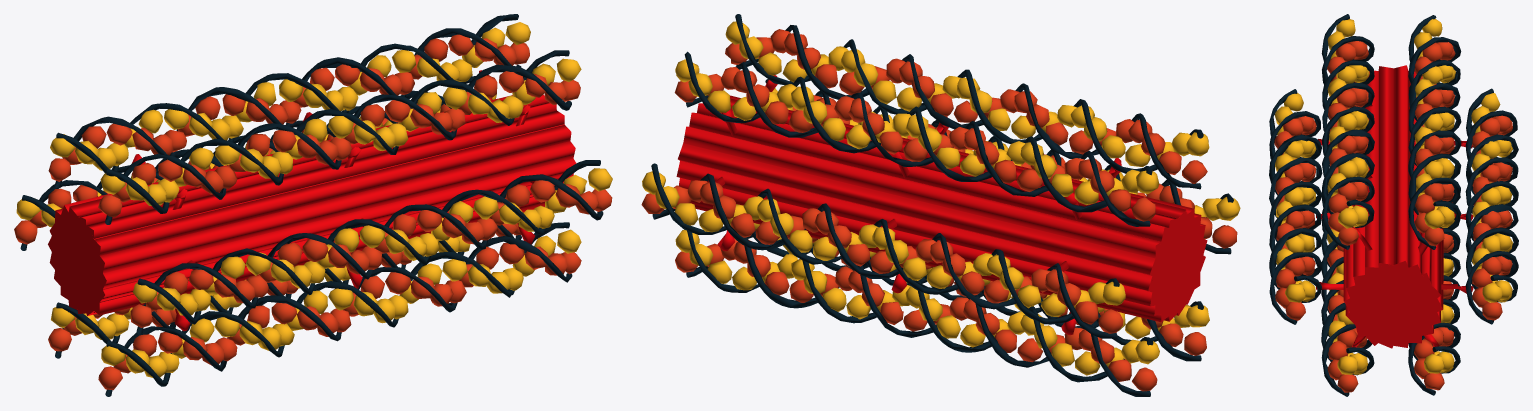
The model's file is sarcomere-lite.glb.
3 renders of one model, left to right at view 1: azimuth 30°, elevation 25°; view 2: azimuth 150°, elevation 25°; view 3: azimuth 270°, elevation 25°, orthographic. The views are drawn at different scales.
Visible parts, largest first — view 1: Object_10, Object_8, Object_6, Object_36; view 2: Object_10, Object_8, Object_6, Object_36; view 3: Object_36, Object_10, Object_8, Object_6.
Part boxes in pixels (box(x1,y1,x2,y2)): Object_10: box(48, 70, 576, 331); Object_8: box(14, 34, 612, 390); Object_6: box(16, 22, 612, 377); Object_36: box(20, 14, 603, 396); Object_10: box(676, 75, 1207, 335); Object_8: box(641, 29, 1237, 391); Object_6: box(642, 21, 1240, 375); Object_36: box(651, 14, 1233, 396); Object_36: box(1269, 14, 1518, 396); Object_10: box(1316, 65, 1473, 348); Object_8: box(1274, 41, 1512, 392); Object_6: box(1274, 18, 1512, 374).
Bounding box in the file's own units: 0.9652 × 0.4498 × 0.5083.
